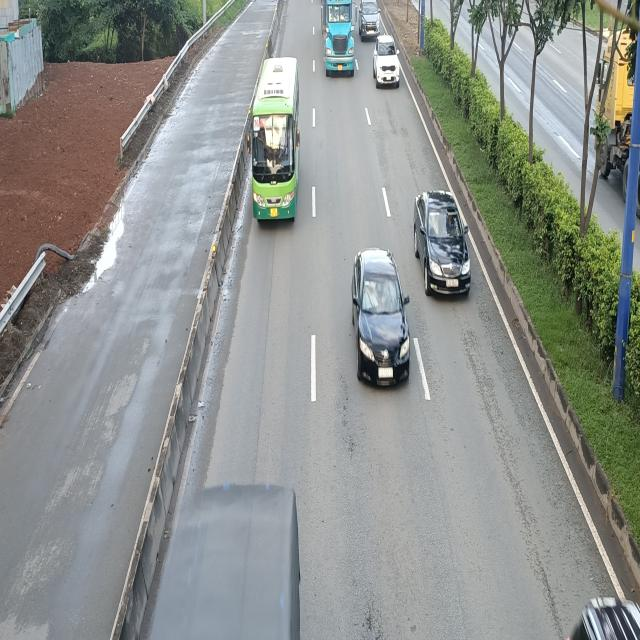car: (349, 251, 408, 390), (412, 189, 469, 297), (373, 36, 401, 88)
coach: (246, 57, 303, 223)
container: (322, 2, 358, 78)
